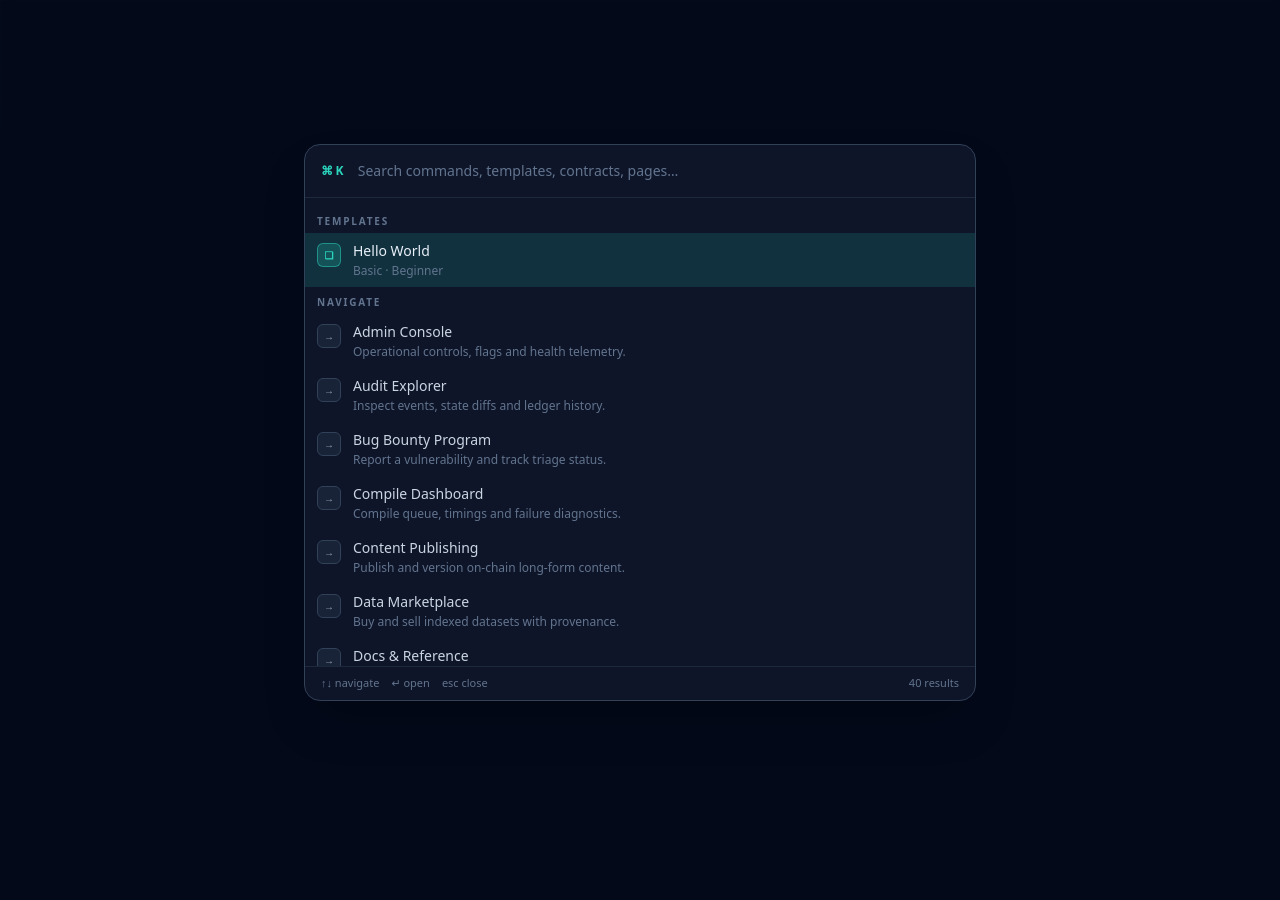
Test: CommandPalette › says so when nothing matches
The width and height of the screenshot is (1280, 900).
Type "zzzzqqqqxxxx" into the dropdown.
click(658, 171); type("zzzzqqqqxxxx")  # box [358,145,959,197]
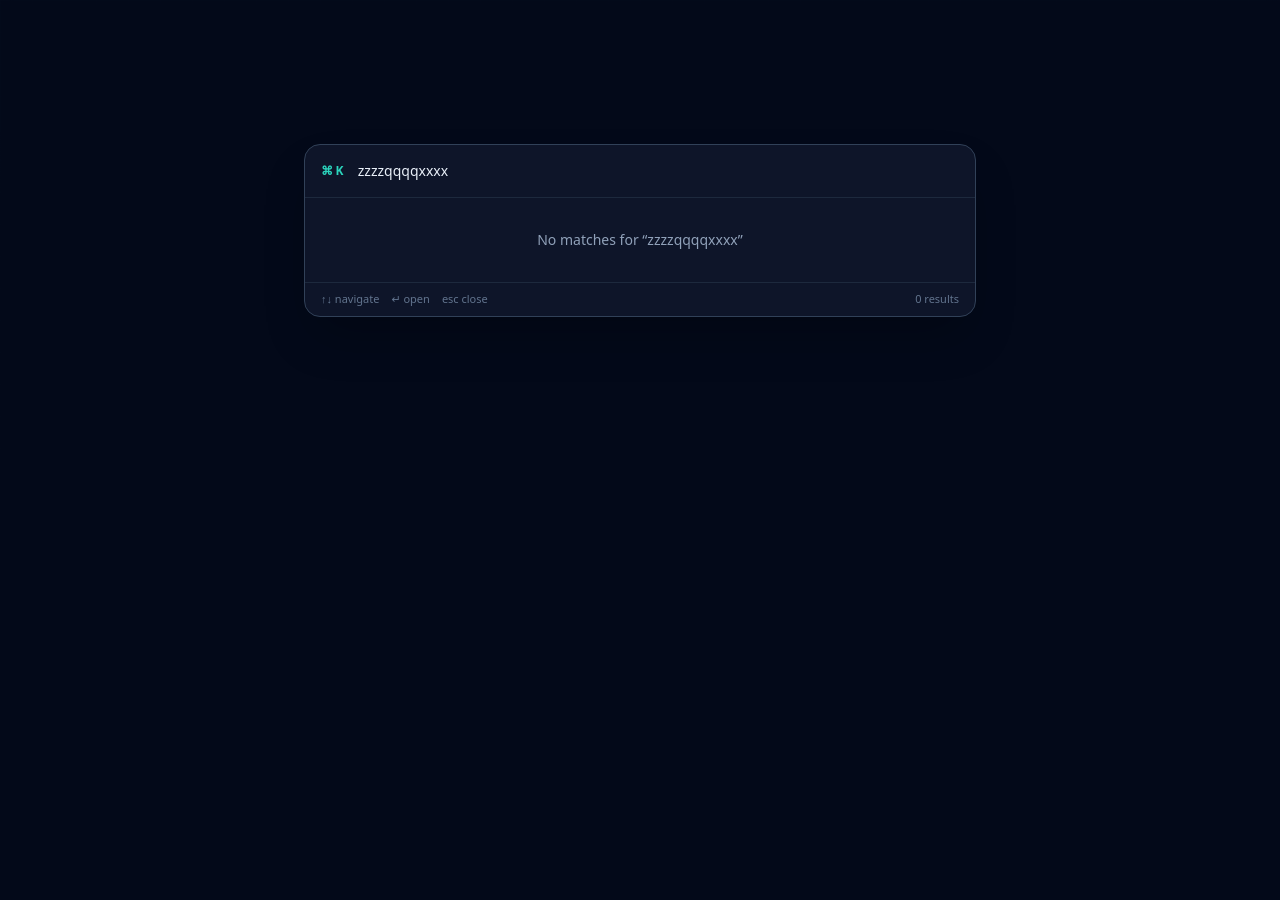
Now the text "No matches for “zzzzqqqqxxxx”" is shown, box [537,230,743,249]
